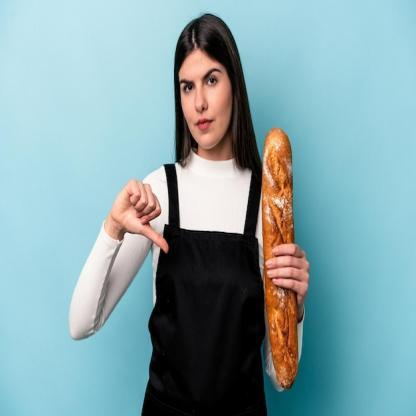thumb_down: (110, 176, 171, 257)
